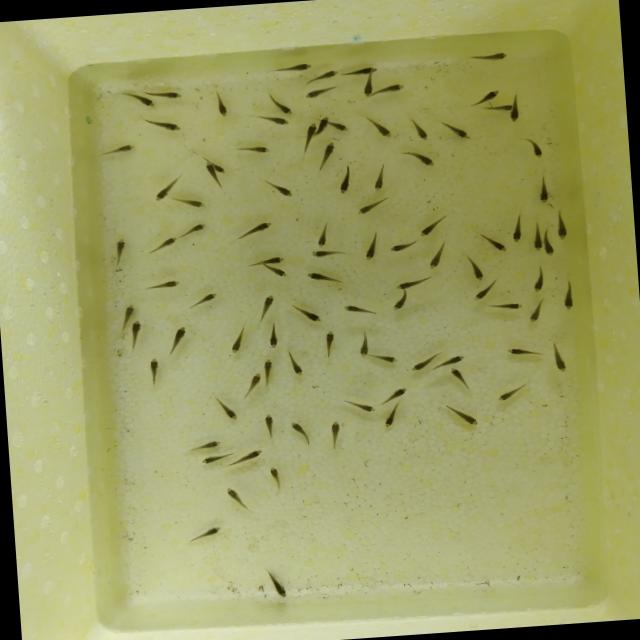fingerling: (437, 396, 480, 428), (489, 379, 532, 407), (262, 566, 294, 602), (348, 192, 392, 218), (355, 228, 385, 266), (360, 114, 398, 144), (543, 338, 571, 378), (433, 116, 473, 144), (300, 266, 350, 288), (287, 299, 324, 328), (139, 115, 185, 138), (419, 240, 452, 272), (220, 485, 255, 515), (260, 174, 297, 202), (162, 322, 190, 358), (460, 248, 488, 284), (414, 210, 450, 238), (476, 224, 508, 255), (402, 112, 433, 144), (338, 393, 379, 417), (182, 522, 224, 545), (212, 392, 240, 426), (280, 348, 308, 382), (265, 60, 315, 79), (235, 218, 278, 240), (396, 148, 439, 170), (178, 436, 230, 454), (530, 172, 556, 208), (367, 158, 392, 195), (284, 416, 312, 449), (499, 342, 544, 362), (331, 160, 356, 196), (391, 272, 435, 292), (556, 276, 578, 316), (267, 88, 296, 118), (232, 140, 280, 158), (338, 300, 381, 320), (95, 140, 138, 160), (210, 85, 232, 124), (314, 139, 338, 174), (184, 289, 220, 312), (227, 322, 250, 358), (147, 233, 181, 257), (324, 415, 346, 452), (446, 364, 473, 394), (262, 463, 288, 494), (170, 194, 210, 214), (302, 68, 342, 88), (258, 410, 280, 446), (238, 368, 262, 401), (150, 173, 178, 201), (140, 356, 163, 390), (305, 246, 351, 263), (233, 446, 273, 465), (377, 381, 410, 404), (261, 321, 284, 354), (142, 276, 184, 294), (310, 219, 334, 250), (108, 237, 130, 270), (318, 328, 340, 360), (197, 448, 236, 466), (524, 296, 549, 324), (351, 329, 372, 361), (522, 134, 546, 162), (552, 206, 570, 242), (508, 208, 526, 244), (302, 85, 340, 102), (258, 291, 280, 320), (471, 49, 513, 64), (386, 236, 419, 255), (372, 80, 411, 96), (262, 354, 280, 388), (178, 220, 210, 239), (386, 291, 413, 313), (128, 319, 146, 351), (342, 64, 382, 78), (531, 262, 549, 293), (528, 219, 544, 252), (246, 255, 286, 268), (155, 88, 187, 104), (469, 284, 492, 306), (476, 86, 502, 105), (406, 356, 433, 374), (493, 298, 527, 312), (382, 404, 399, 431), (372, 350, 399, 367), (507, 93, 521, 123), (358, 76, 376, 98), (266, 265, 288, 281), (328, 118, 350, 134), (440, 352, 468, 364), (266, 116, 292, 128), (134, 95, 158, 108), (122, 300, 136, 322), (542, 240, 558, 258), (203, 160, 216, 178), (303, 122, 317, 134), (317, 116, 329, 130), (216, 163, 227, 174)
